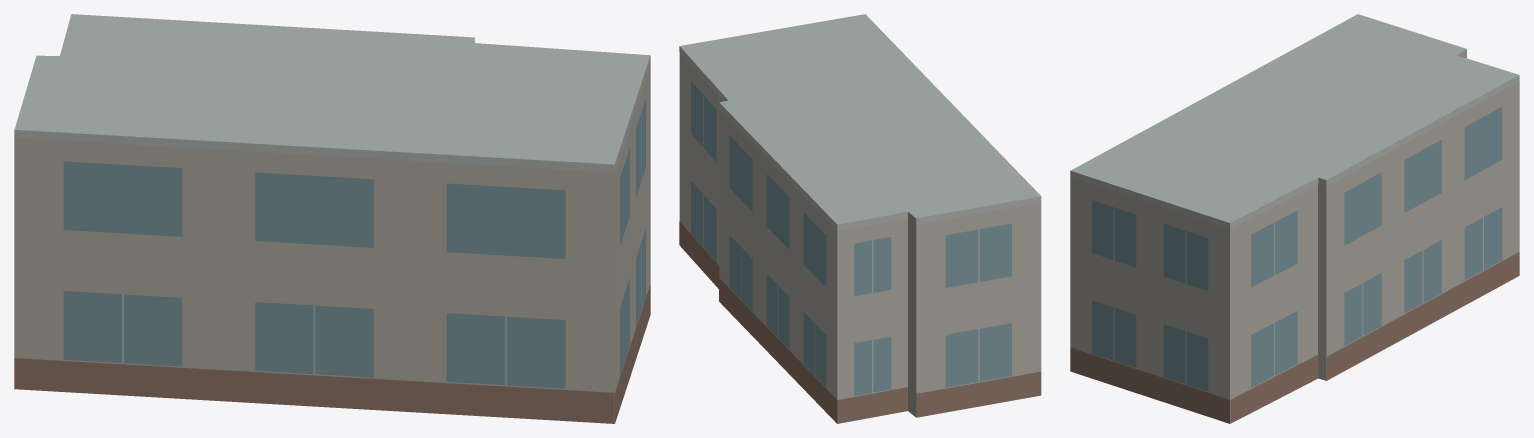
Rendered from survey-upis-32552920.glb.
3 renders of one model, left to right at view 1: azimuth 30°, elevation 25°; view 2: azimuth 150°, elevation 25°; view 3: azimuth 270°, elevation 25°, orthographic. The views are drawn at different scales.
Parts seen in each view (by area): view 1: survey-upis-32552920.tmp; view 2: survey-upis-32552920.tmp; view 3: survey-upis-32552920.tmp.
Part boxes in pixels (x1,y1,x2,y2): survey-upis-32552920.tmp: [14, 14, 650, 423]; survey-upis-32552920.tmp: [679, 14, 1041, 423]; survey-upis-32552920.tmp: [1070, 14, 1519, 423].
Bounding box in the file's own units: 17.43 × 7.8 × 15.82.
